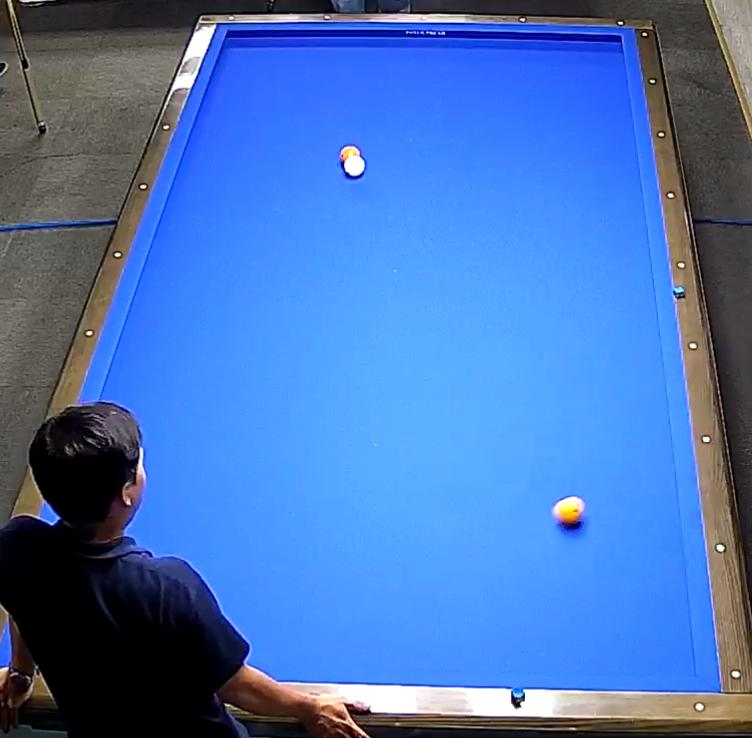orange ball: (339, 143, 361, 169)
white ball: (340, 155, 368, 179)
